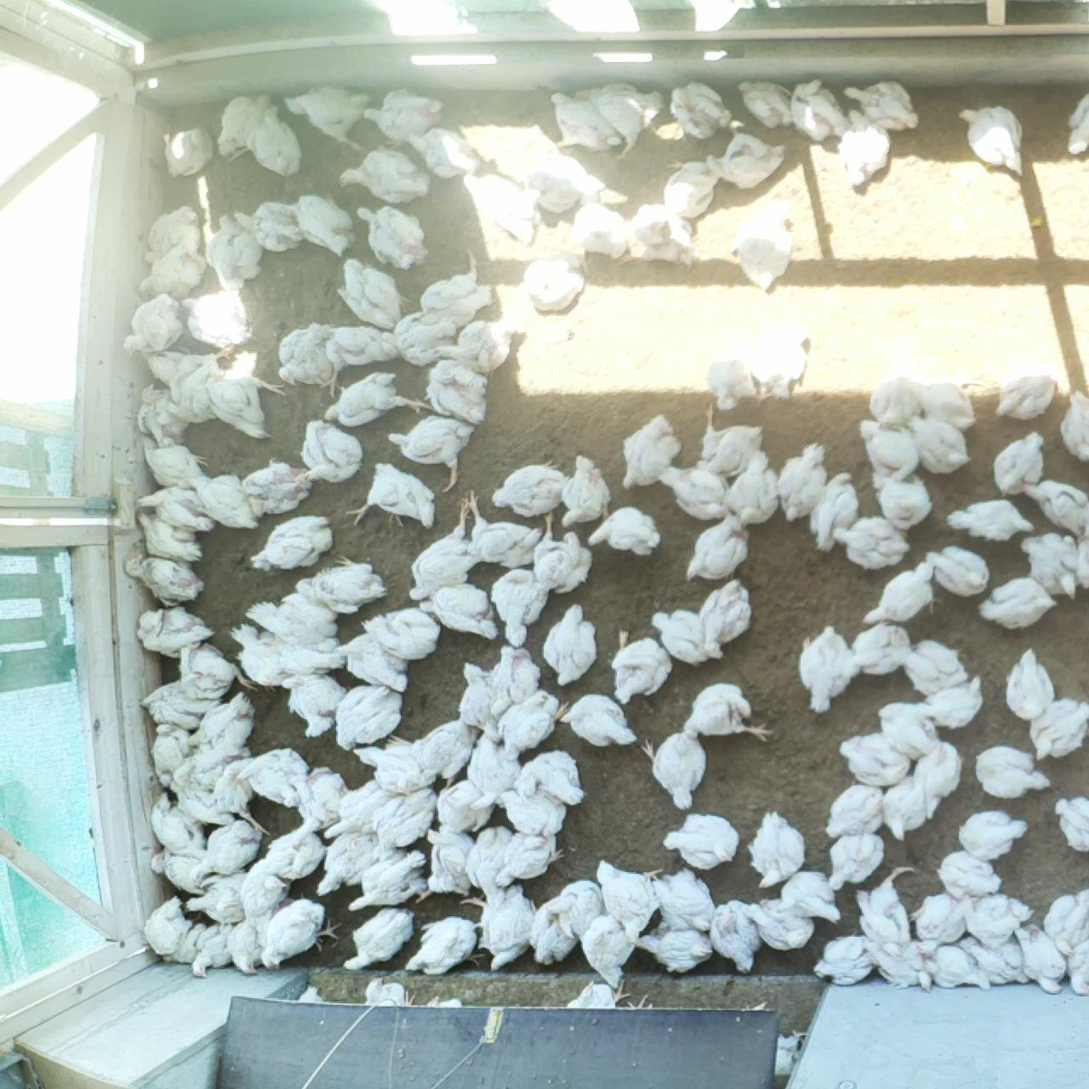chicken: (458, 879, 543, 975), (245, 592, 347, 671), (385, 415, 478, 495), (346, 462, 438, 541), (571, 81, 662, 160), (410, 501, 479, 605), (312, 322, 404, 398), (465, 487, 548, 570), (730, 201, 802, 296), (262, 894, 344, 977), (416, 249, 496, 334), (320, 369, 438, 426), (556, 979, 653, 1044), (204, 362, 283, 441), (284, 84, 372, 154), (593, 858, 664, 943), (680, 678, 774, 742), (336, 254, 413, 332), (289, 554, 389, 614), (349, 845, 434, 914), (797, 621, 859, 715), (532, 509, 594, 603), (405, 714, 482, 789), (696, 405, 766, 487), (205, 754, 275, 835), (745, 326, 814, 408), (643, 725, 708, 811), (336, 146, 432, 204), (189, 818, 264, 892), (515, 152, 603, 215), (861, 558, 942, 626), (854, 865, 914, 956), (248, 513, 336, 575), (495, 691, 569, 764), (538, 600, 600, 687), (275, 319, 344, 397), (404, 914, 488, 978), (233, 745, 312, 813), (432, 316, 520, 377), (491, 565, 554, 650), (704, 128, 787, 192), (360, 783, 439, 850), (833, 108, 894, 194), (406, 123, 490, 185), (679, 513, 751, 585), (320, 777, 402, 840), (227, 620, 304, 687), (179, 639, 260, 702), (723, 447, 785, 529), (416, 822, 482, 899), (201, 214, 266, 292), (360, 86, 444, 146), (335, 684, 407, 754), (336, 628, 406, 700), (959, 104, 1025, 180), (420, 582, 503, 642), (621, 409, 681, 492), (316, 826, 385, 898), (343, 904, 415, 973), (623, 200, 695, 269), (354, 202, 429, 268), (749, 810, 809, 892), (248, 820, 327, 882), (277, 192, 356, 254), (354, 744, 444, 798), (612, 627, 675, 704), (654, 463, 736, 522), (579, 913, 641, 991), (1017, 532, 1087, 601), (465, 733, 526, 812), (829, 512, 909, 572), (774, 440, 830, 525), (381, 310, 459, 371), (548, 90, 621, 155), (362, 604, 441, 664), (700, 333, 760, 412), (698, 580, 755, 663), (806, 470, 861, 556), (661, 812, 741, 871), (231, 197, 311, 256), (490, 461, 570, 520), (426, 356, 491, 428), (460, 657, 513, 745), (890, 637, 969, 696), (976, 576, 1060, 631), (298, 415, 362, 487), (1015, 477, 1089, 539), (141, 678, 224, 733), (559, 690, 636, 749), (558, 451, 613, 533), (844, 77, 923, 134), (511, 749, 587, 808), (495, 829, 565, 893), (187, 870, 260, 931), (135, 603, 213, 660), (216, 91, 275, 166), (957, 891, 1032, 950), (479, 172, 542, 242), (123, 554, 206, 607), (1029, 693, 1089, 766), (944, 497, 1035, 545), (181, 290, 255, 349), (959, 928, 1034, 986), (139, 239, 208, 302), (863, 931, 935, 991), (522, 252, 587, 318), (659, 154, 721, 223), (839, 734, 916, 789), (991, 430, 1049, 503), (649, 866, 714, 931), (908, 887, 965, 961), (824, 779, 892, 841), (279, 670, 341, 738), (708, 897, 762, 975), (1003, 644, 1057, 722), (357, 974, 417, 1044), (844, 619, 915, 678), (190, 692, 255, 756), (548, 878, 608, 947), (135, 483, 216, 534), (245, 107, 303, 178), (238, 461, 314, 515), (634, 926, 716, 976), (487, 643, 543, 716), (192, 469, 259, 530), (570, 201, 633, 265), (855, 418, 919, 481), (120, 291, 182, 356), (431, 781, 496, 843), (239, 854, 294, 927), (917, 671, 985, 730), (990, 365, 1059, 423), (907, 374, 976, 432), (877, 701, 943, 761), (464, 826, 516, 902), (917, 939, 991, 992), (590, 502, 660, 558), (867, 373, 930, 435), (879, 770, 934, 841), (871, 469, 935, 530), (742, 896, 817, 948), (956, 808, 1031, 860), (908, 415, 974, 474), (812, 932, 879, 990), (1041, 884, 1089, 964), (788, 77, 848, 141), (296, 763, 353, 830), (975, 746, 1051, 796), (668, 83, 732, 142), (150, 792, 207, 857), (497, 790, 572, 839), (828, 832, 889, 892), (134, 384, 193, 446), (1013, 922, 1064, 993), (651, 607, 711, 667), (136, 435, 204, 487), (923, 544, 991, 596), (780, 869, 842, 925), (527, 898, 578, 966), (223, 915, 279, 976), (137, 512, 205, 562), (163, 366, 220, 425), (151, 718, 200, 786), (913, 739, 963, 804), (736, 77, 798, 129), (148, 848, 212, 897), (144, 204, 200, 258), (936, 850, 1001, 896), (168, 779, 234, 824), (171, 750, 248, 788), (283, 985, 340, 1036), (189, 921, 235, 984), (145, 345, 211, 388), (162, 126, 215, 178), (144, 895, 189, 956), (1055, 388, 1089, 464), (411, 994, 467, 1040), (158, 922, 212, 968), (1051, 795, 1089, 859), (1064, 88, 1089, 161), (1060, 938, 1089, 999), (1069, 528, 1089, 594)
